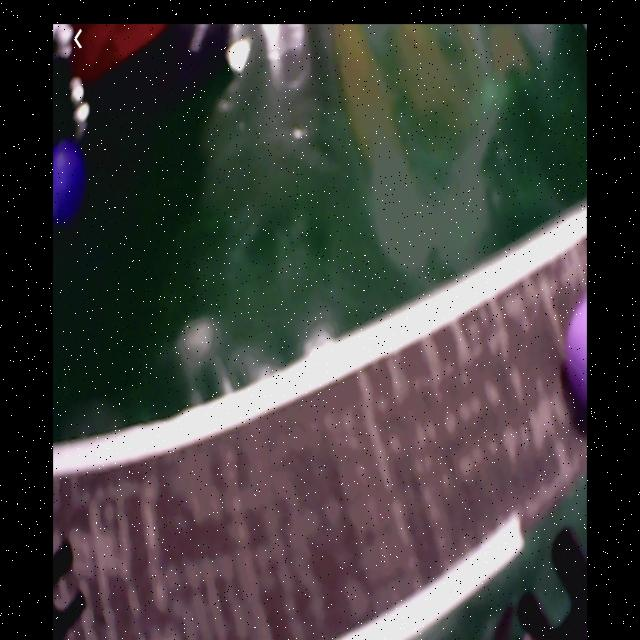ball: (560, 302, 587, 416), (53, 138, 80, 229)
